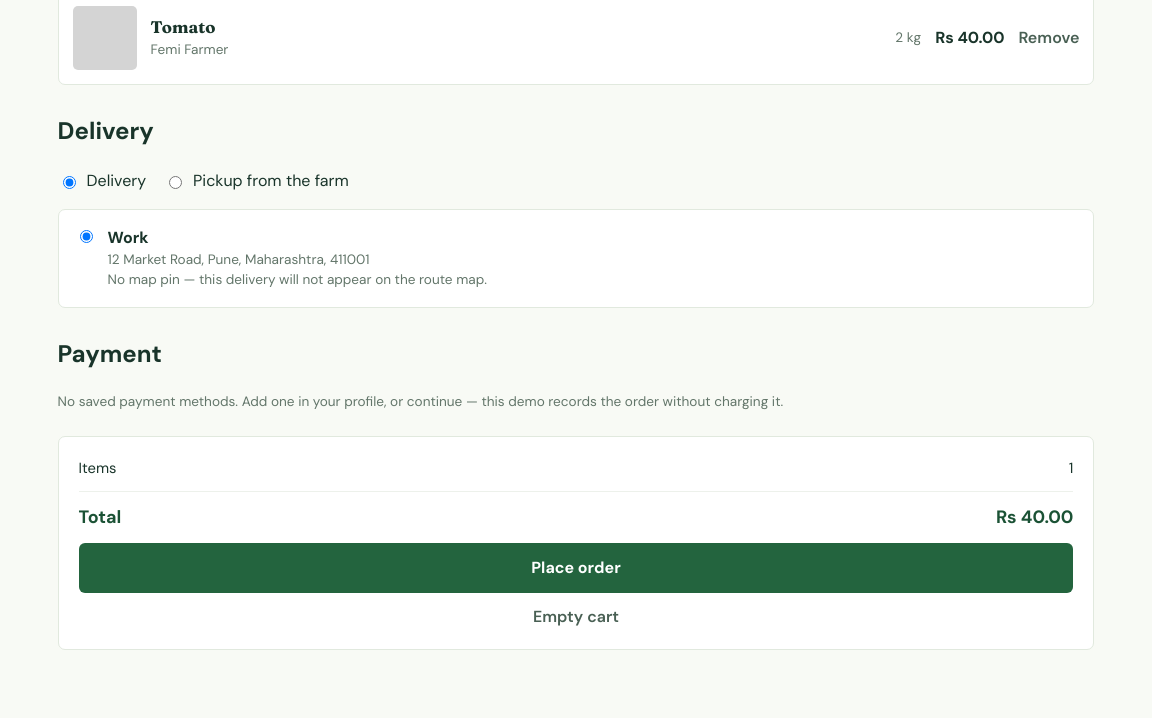
Scenario: Checkout payload › refuses to place a delivery to an unpinned address
(page scrolled)
What coordinates should you click on to do the following:
click the button "Place order"
I would click on:
 (576, 568)
Its box is [79,543,1073,593].
(page scrolled)
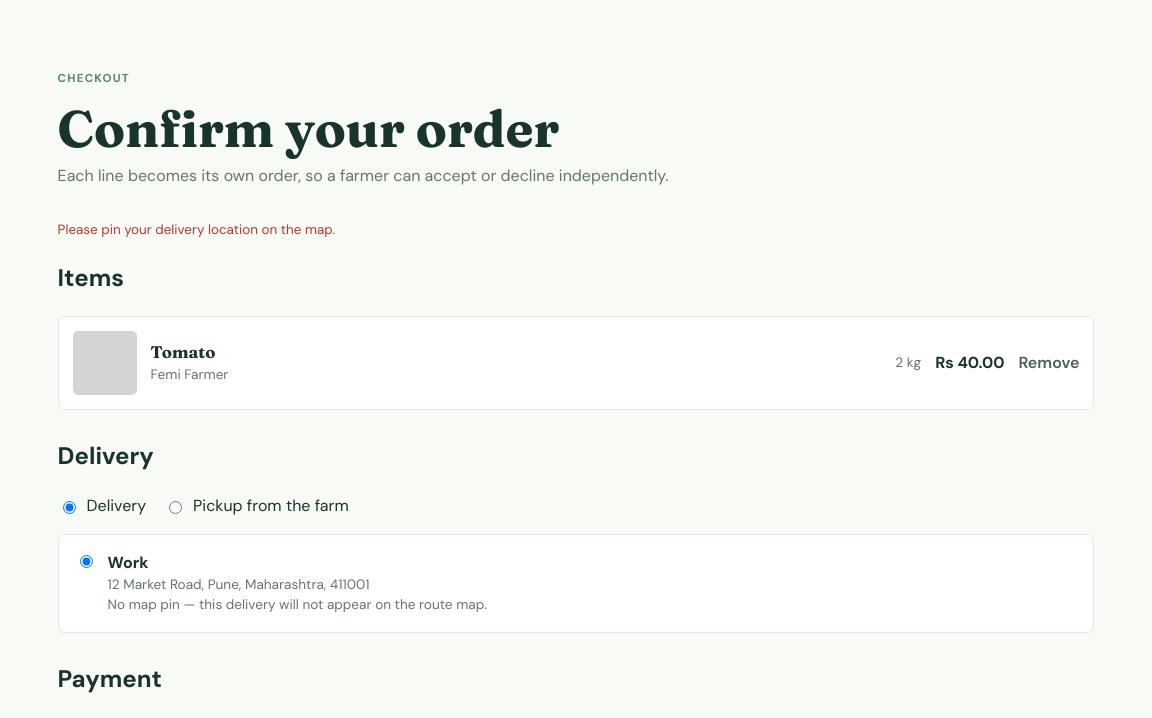
Check: the text "Please pin your delivery location on the map." is shown, box [58,221,335,238]
